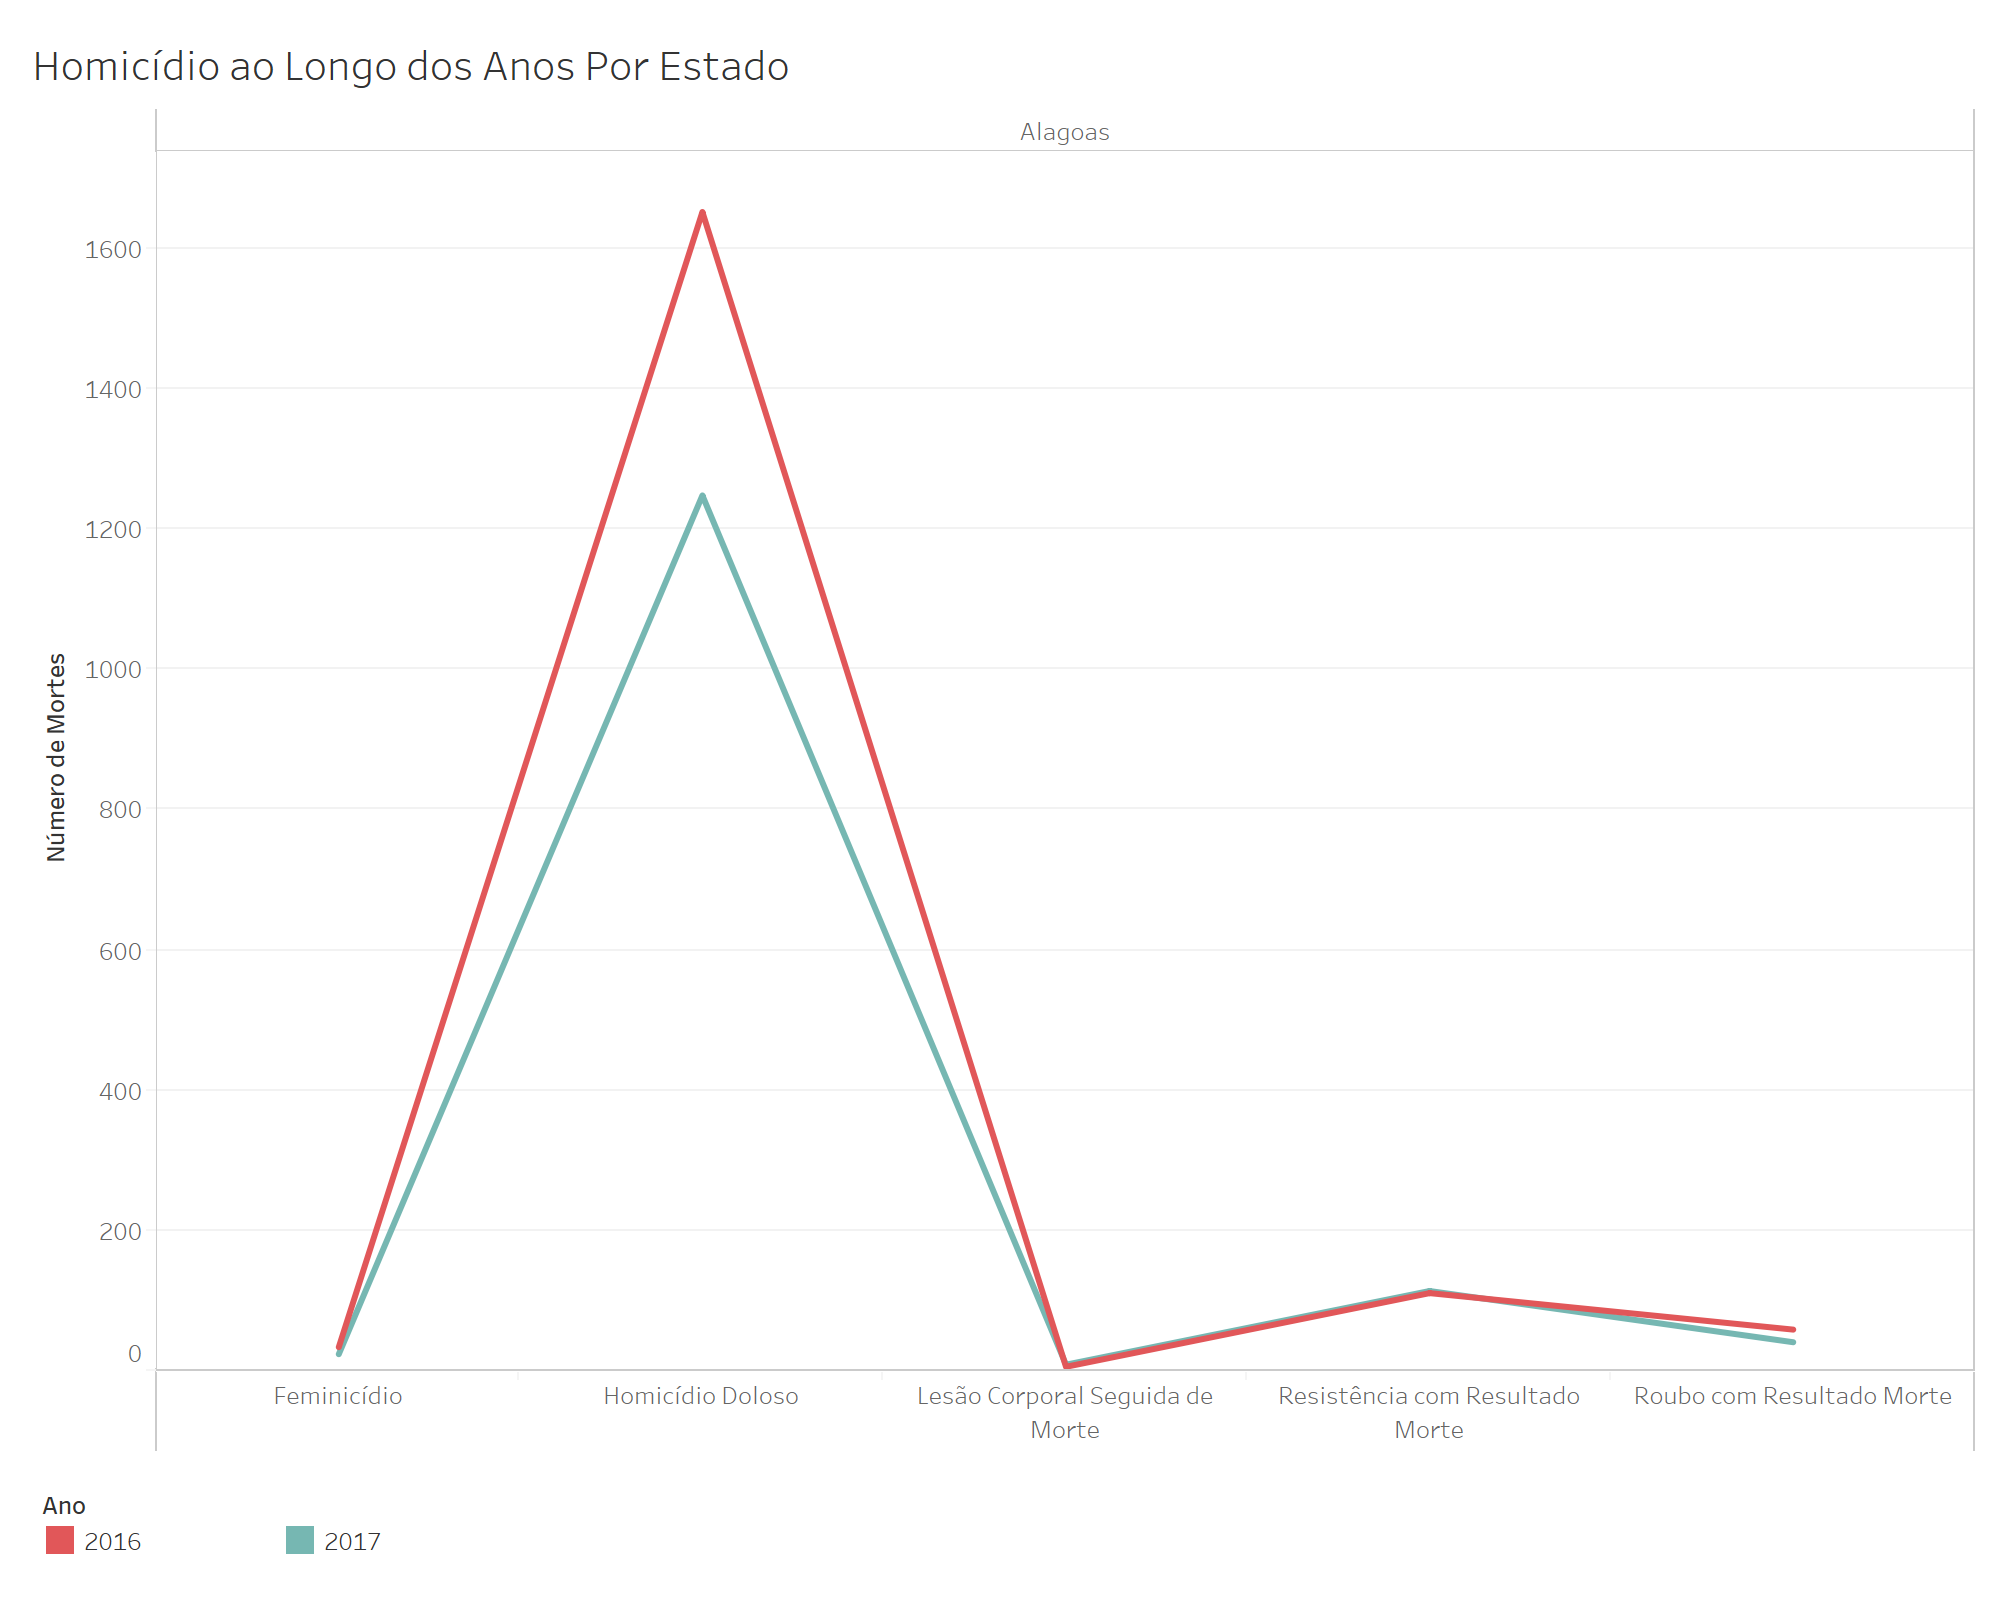

The page's visual inventory and layout, read from the dashboard file:
{"tool":"tableau","page":{"name":"Dashboard 2","canvas":[1000,800],"ordinal":1},"visuals":[{"type":"worksheet","title":"Sheet 7","mark":"Area","rows":["numero"],"cols":["ano"],"box":[8,8,984,784]},{"type":"legend","title":"Sheet 7","param":"[federated.0soqjxx1rha4mi1e97uy51utfn9w].[none:descricao:nk]","box":[79,433,347,248]}]}

Visuals, with their boxes in screenshot pixels (x1, y1, x2, y2), scaled from the page's 1000x800 canvas onto the 2000x1600 screenshot:
"Sheet 7" worksheet (Area marks): [x1=16, y1=16, x2=1984, y2=1584]
"Sheet 7" legend: [x1=158, y1=866, x2=852, y2=1362]
